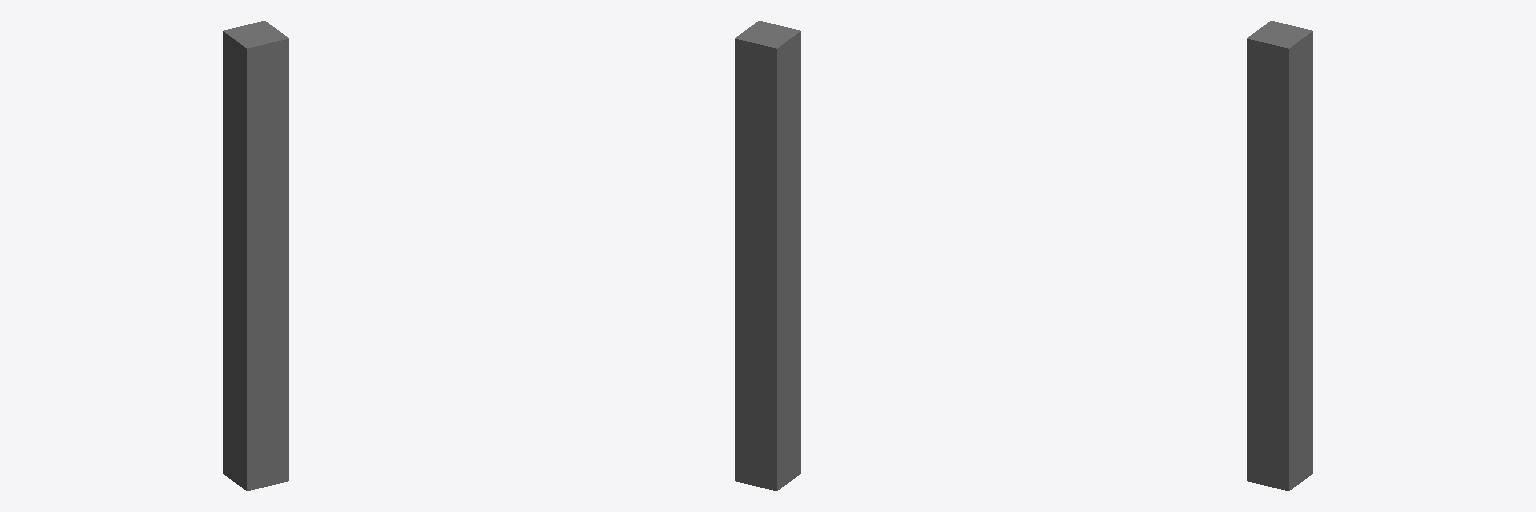
robot.urdf — object:
<?xml version="1.0"?>
<robot name="object">
  <link name="object">
    <visual>
      <origin xyz="0 0 0"/>
      <geometry>
        <box size="0.05 0.05 0.5"/>
      </geometry>
      <material name="mat">
        <color rgba="0.5 0.5 0.5 1"/>
      </material>
    </visual>

    <collision>
      <origin xyz="0 0 0"/>
      <geometry>
        <box size="0.05 0.05 0.5"/>
      </geometry>
    </collision>
  </link>
</robot>

--- Render facts (derived) ---
The picture shows the robot from 3 angles, left to right: view 1: azimuth 30°, elevation 25°; view 2: azimuth 150°, elevation 25°; view 3: azimuth 330°, elevation 25°; orthographic projection.
Robot: object — 1 links, 0 joints (none); root link object; default pose: every joint at zero.
Visible links, largest first — view 1: object; view 2: object; view 3: object.
Boxes of the visible links, x1,y1,x2,y2 form: object: (223, 21, 288, 490); object: (735, 21, 800, 490); object: (1247, 21, 1312, 490).
Bounding box of the posed robot: 0.05 × 0.05 × 0.5 m (x, y, z).
Geometry: primitives only (box / cylinder / sphere), no mesh files.